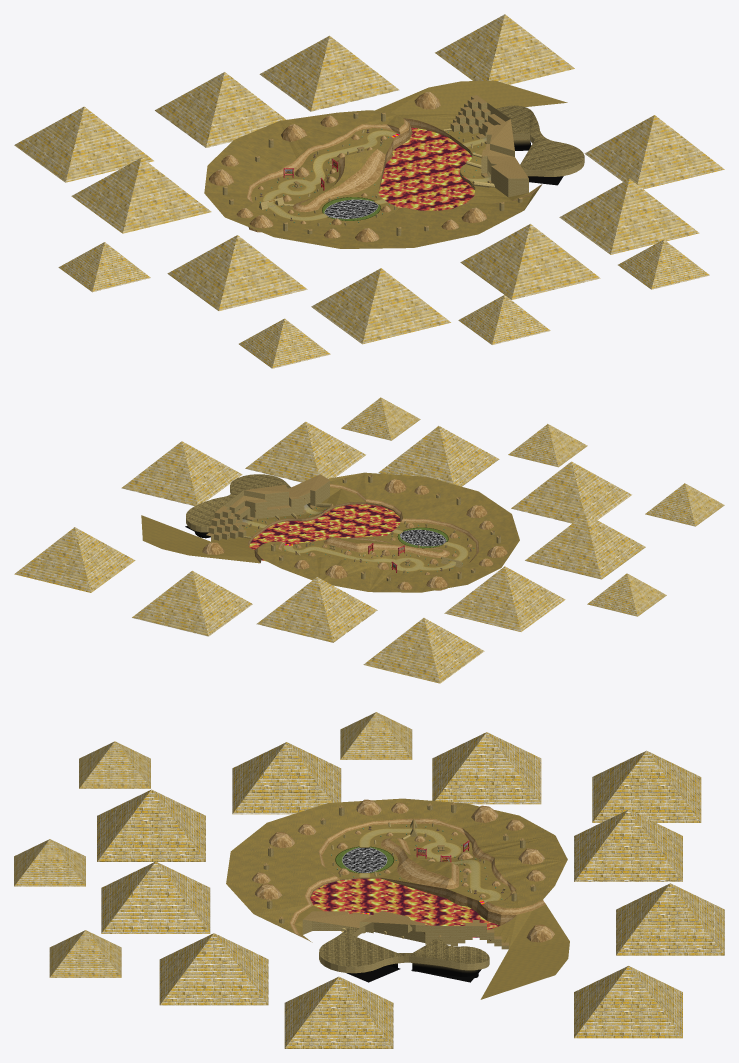
3 views of the same model, one above another, from view 1: azimuth 30°, elevation 25°; view 2: azimuth 150°, elevation 25°; view 3: azimuth 270°, elevation 25° (orthographic). The views are drawn at different scales.
Visible parts, largest first — view 1: Pyramid, Pyramid_Dark, Sand_Unreachable, Sand, Desert_Mushroom_Ruins-SKP--Rock, Desert_Mushroom_Ruins-SKP--Lava, Desert_Mushroom_Ruins-SKP--Ceiling, BrickWall, BrickWall_Base, Desert_Mushroom_Ruins-SKP--Road, BrickWall_Ruins, Water.002; view 2: Pyramid, Pyramid_Dark, Sand_Unreachable, Sand, Desert_Mushroom_Ruins-SKP--Rock, Desert_Mushroom_Ruins-SKP--Lava, BrickWall, BrickWall_Base, Desert_Mushroom_Ruins-SKP--Ceiling, Desert_Mushroom_Ruins-SKP--Road, BrickWall_Ruins, Water.002; view 3: Pyramid_Dark, Pyramid, Sand_Unreachable, Sand, Desert_Mushroom_Ruins-SKP--Rock, Desert_Mushroom_Ruins-SKP--Lava, BrickWall, Desert_Mushroom_Ruins-SKP--Ceiling, Desert_Mushroom_Ruins-SKP--Road, BrickWall_Ruins, BrickWall_Base, Water.002 (+2 smaller).
Part boxes in pixels (x1,y1,x2,y2): Pyramid: (65,14,724,368); Pyramid_Dark: (14,14,663,368); Sand_Unreachable: (204,110,541,248); Sand: (251,80,567,227); Desert_Mushroom_Ruins-SKP--Rock: (209,92,542,242); Desert_Mushroom_Ruins-SKP--Lava: (378,127,474,210); Desert_Mushroom_Ruins-SKP--Ceiling: (496,105,584,170); BrickWall: (222,97,522,235); BrickWall_Base: (261,95,528,202); Desert_Mushroom_Ruins-SKP--Road: (263,130,487,220); BrickWall_Ruins: (259,101,584,209); Water.002: (325,200,377,218); Pyramid: (14,397,695,683); Pyramid_Dark: (75,397,724,683); Sand_Unreachable: (257,472,519,592); Sand: (141,487,476,575); Desert_Mushroom_Ruins-SKP--Rock: (202,479,507,590); Desert_Mushroom_Ruins-SKP--Lava: (249,504,400,561); BrickWall: (211,475,500,581); BrickWall_Base: (206,474,461,564); Desert_Mushroom_Ruins-SKP--Ceiling: (186,474,291,526); Desert_Mushroom_Ruins-SKP--Road: (248,509,468,571); BrickWall_Ruins: (186,479,462,567); Water.002: (400,530,445,545); Pyramid_Dark: (14,712,724,1048); Pyramid: (14,712,724,1048); Sand_Unreachable: (226,798,567,936); Sand: (294,823,569,999); Desert_Mushroom_Ruins-SKP--Rock: (252,799,554,942); Desert_Mushroom_Ruins-SKP--Lava: (310,878,499,937); BrickWall: (263,805,536,949); Desert_Mushroom_Ruins-SKP--Ceiling: (319,926,489,966); Desert_Mushroom_Ruins-SKP--Road: (359,828,501,902); BrickWall_Ruins: (302,824,489,973); BrickWall_Base: (303,818,508,945); Water.002: (343,848,386,872).
Size of the model in its own units: 204008 by 19682 by 195674.
Materials: 34 (34 with a texture image).
